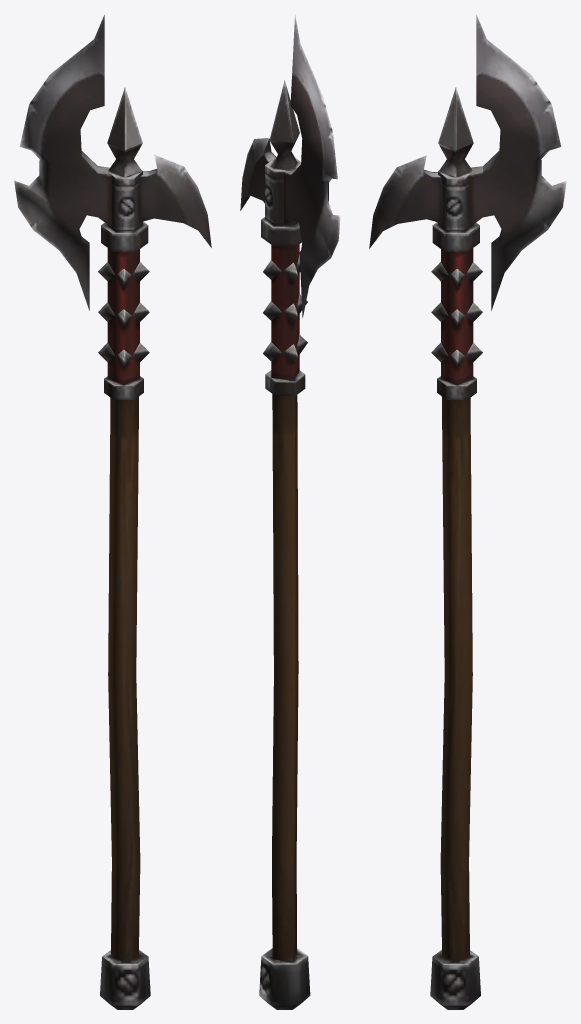
Rendered from polearm09_262e3bd8.glb.
3 renders of one model, left to right at view 1: azimuth 90°, elevation 25°; view 2: azimuth 210°, elevation 25°; view 3: azimuth 270°, elevation 25°, orthographic.
Size of the model in its own units: 0.1633 by 3.44 by 0.6218.
Materials: 1 (1 with a texture image).
